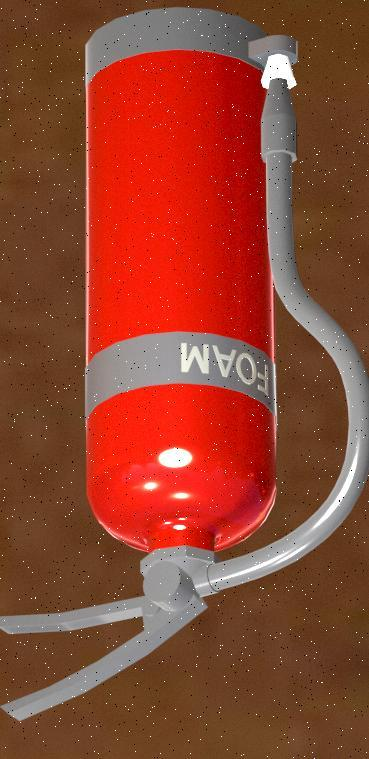Fire Extinguisher: (4, 10, 369, 730)
